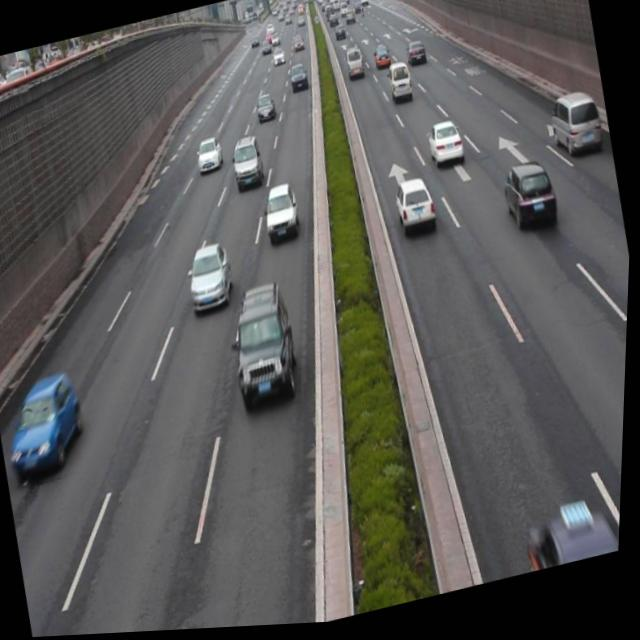car: (4, 367, 95, 482), (225, 282, 307, 409), (527, 503, 625, 578), (499, 160, 563, 240), (184, 242, 239, 316), (393, 178, 440, 239), (260, 183, 305, 246), (424, 120, 467, 176), (195, 137, 227, 177), (254, 94, 278, 126)
truck: (547, 93, 607, 166), (229, 136, 267, 193), (385, 62, 416, 109)
